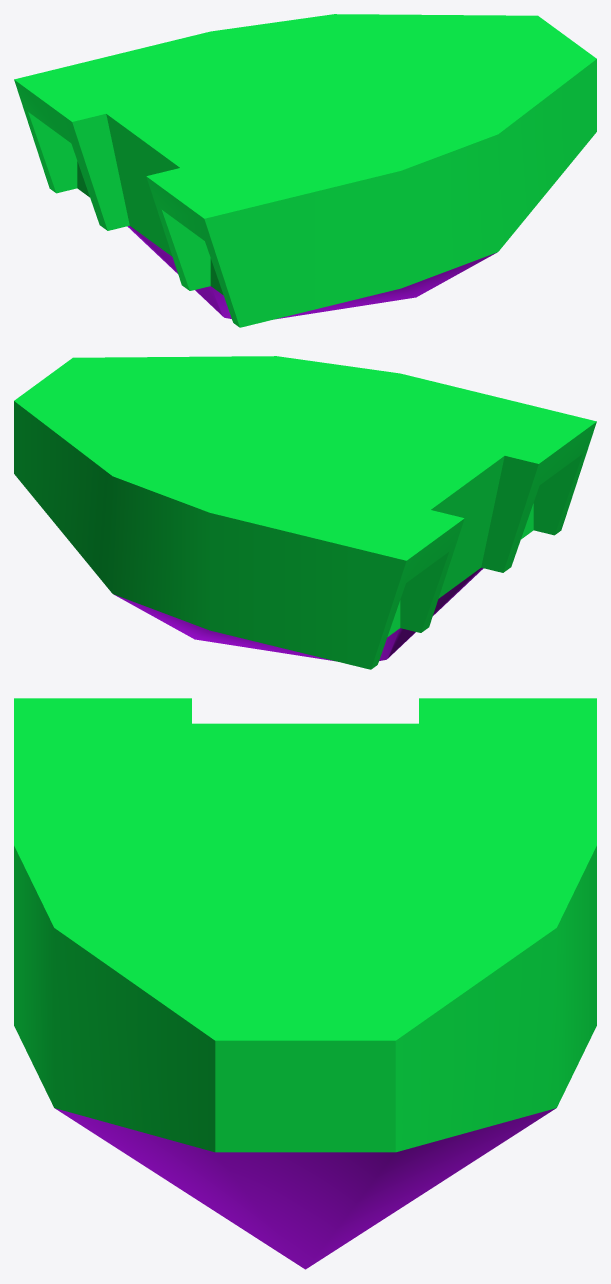
The model's file is PlayerShip_Body.FBX.
3 views of the same model, one above another, from view 1: azimuth 30°, elevation 25°; view 2: azimuth 150°, elevation 25°; view 3: azimuth 270°, elevation 25° (orthographic). The views are drawn at different scales.
Visible parts, largest first — view 1: PlayerShip; view 2: PlayerShip; view 3: PlayerShip.
Boxes of the visible parts, x1=… form: PlayerShip: x1=14, y1=14, x2=596, y2=327; PlayerShip: x1=14, y1=356, x2=596, y2=669; PlayerShip: x1=14, y1=698, x2=596, y2=1269.
Bounding box in the file's own units: 9.23 × 4.3 × 6.64.
